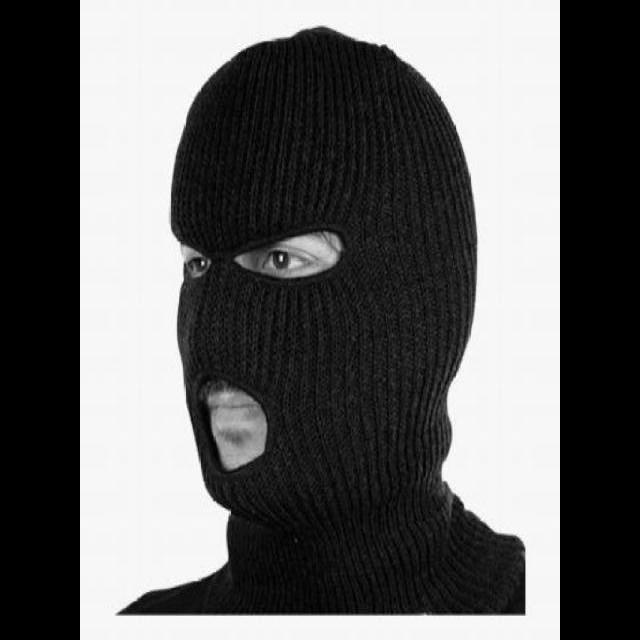6_pasamontana: (116, 25, 524, 615)
